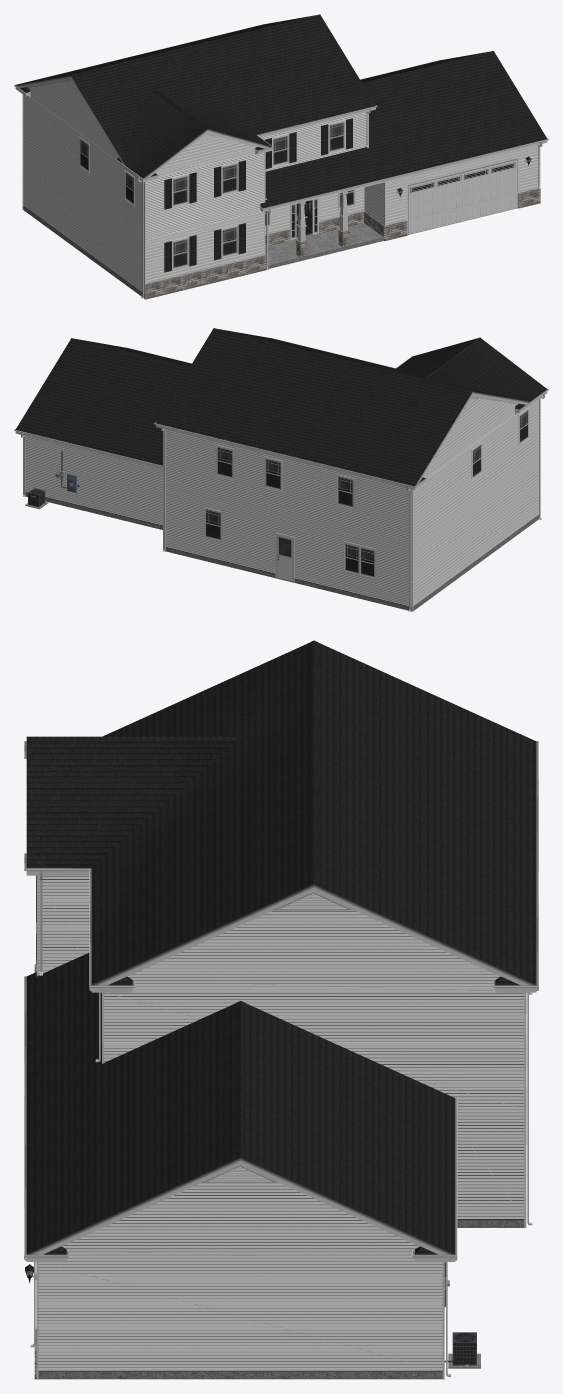
File: house23_mirror2.fbx
3 views of the same model, one above another, from view 1: azimuth 30°, elevation 25°; view 2: azimuth 150°, elevation 25°; view 3: azimuth 270°, elevation 25° (orthographic). The views are drawn at different scales.
Parts seen in each view (by area): view 1: house23_mirror2_LOD0; view 2: house23_mirror2_LOD0; view 3: house23_mirror2_LOD0.
Boxes of the visible parts, box(x1,y1,x2,y2) form: house23_mirror2_LOD0: box(14, 14, 548, 299); house23_mirror2_LOD0: box(14, 328, 548, 611); house23_mirror2_LOD0: box(24, 640, 538, 1379).
Size of what is drawn, in the model's own units: 5.76 by 2.36 by 3.16.
